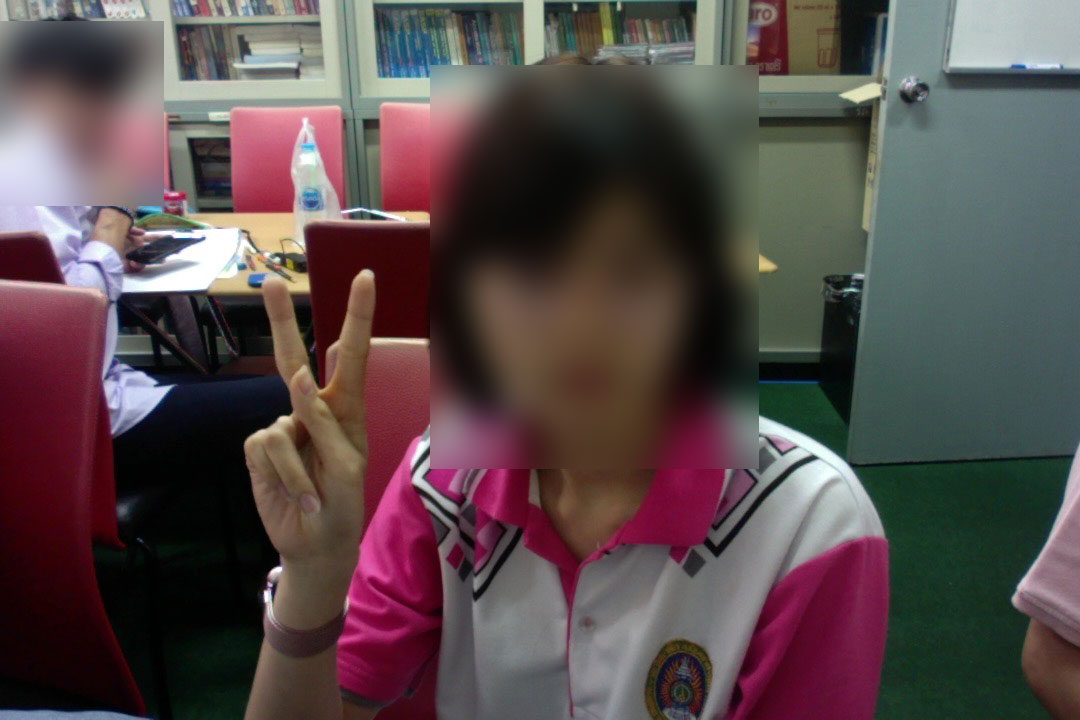ko: (238, 257, 376, 570)
